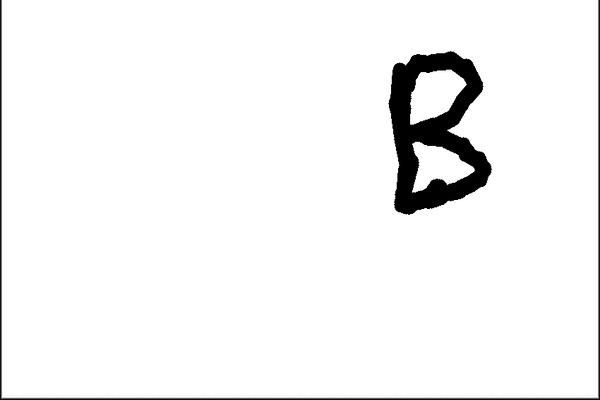B: (380, 48, 498, 222)
